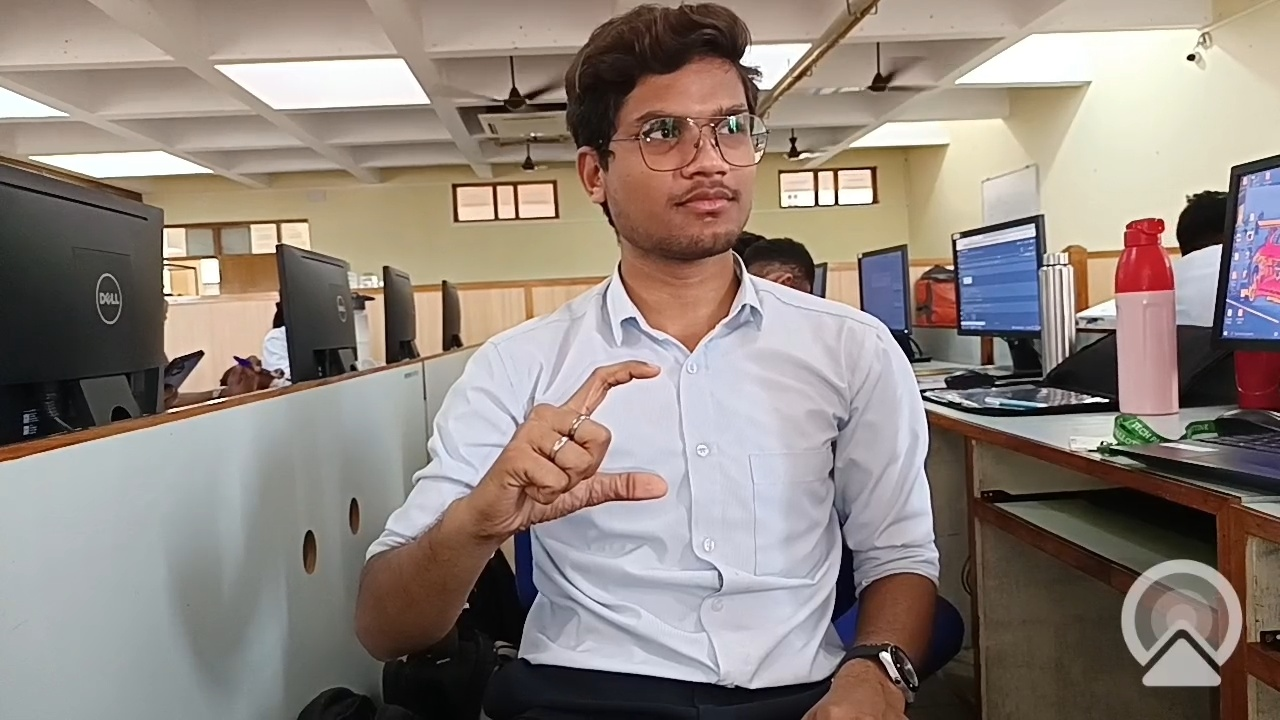C: (436, 322, 746, 572)
